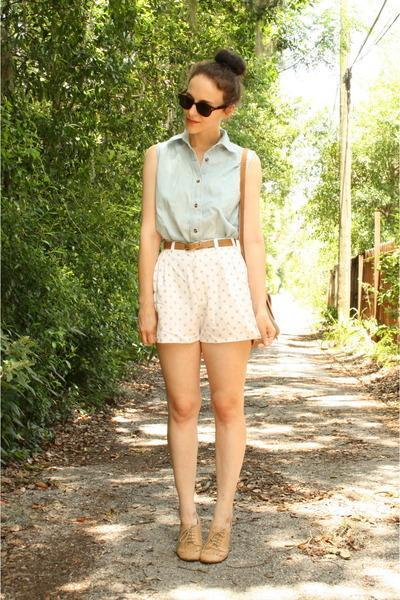shirt: (156, 110, 239, 247)
shoe: (179, 503, 240, 560)
shorts: (153, 238, 259, 342)
sunglass: (180, 91, 226, 116)
